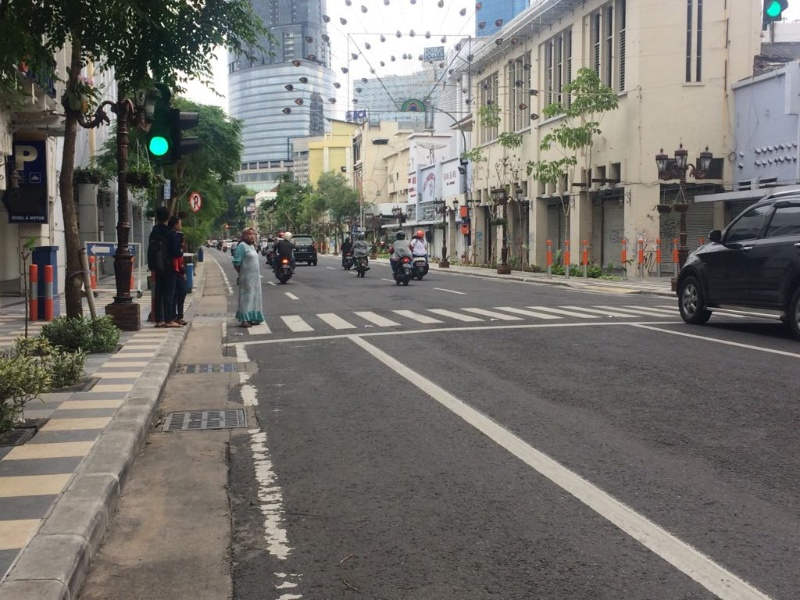zebra cross: (247, 302, 681, 334)
